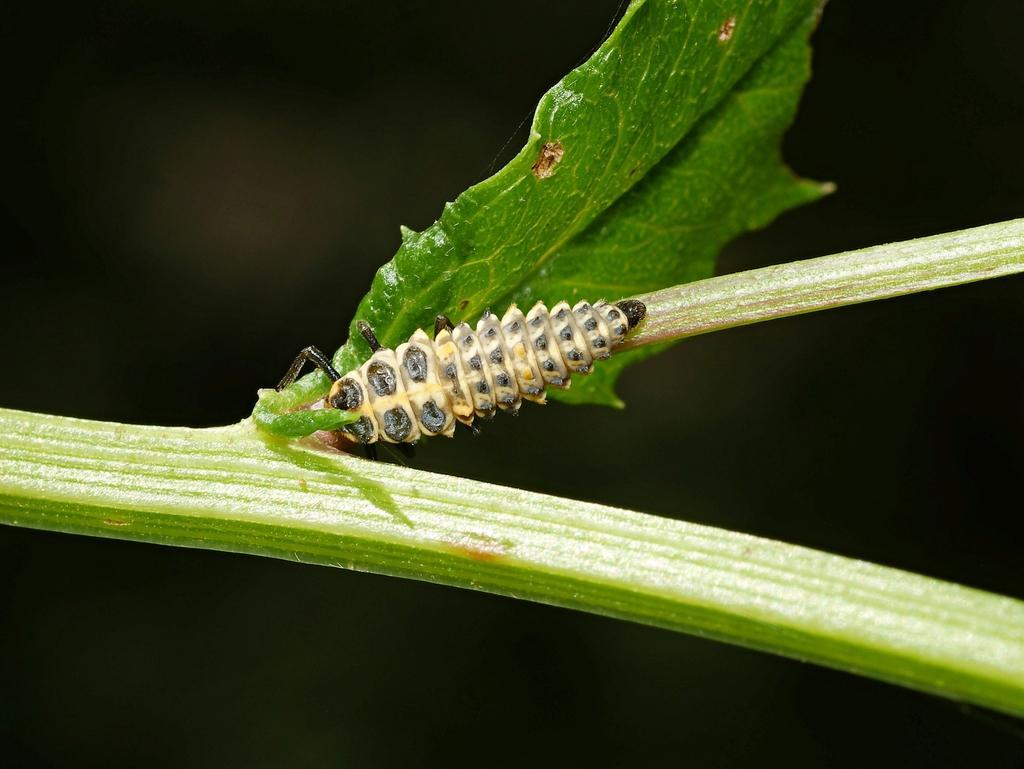ladybug: (275, 295, 649, 465)
